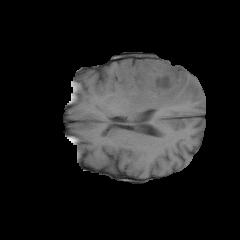glioma: (113, 59, 200, 110)
